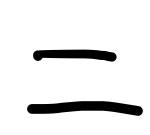eqv: (20, 46, 144, 117)
